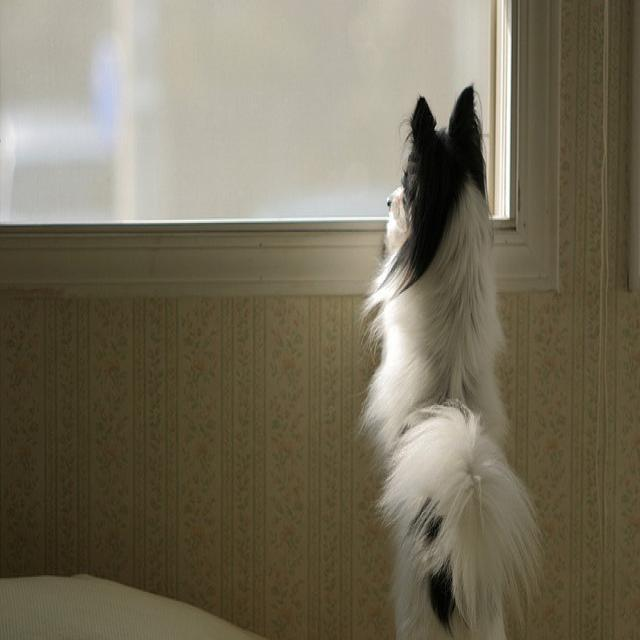dog: (354, 77, 542, 637)
